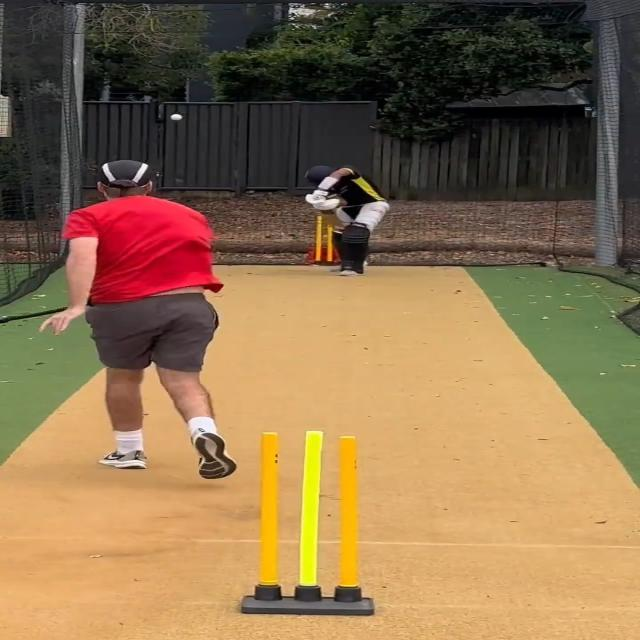ball: (168, 112, 185, 122)
stump: (238, 429, 378, 616)
